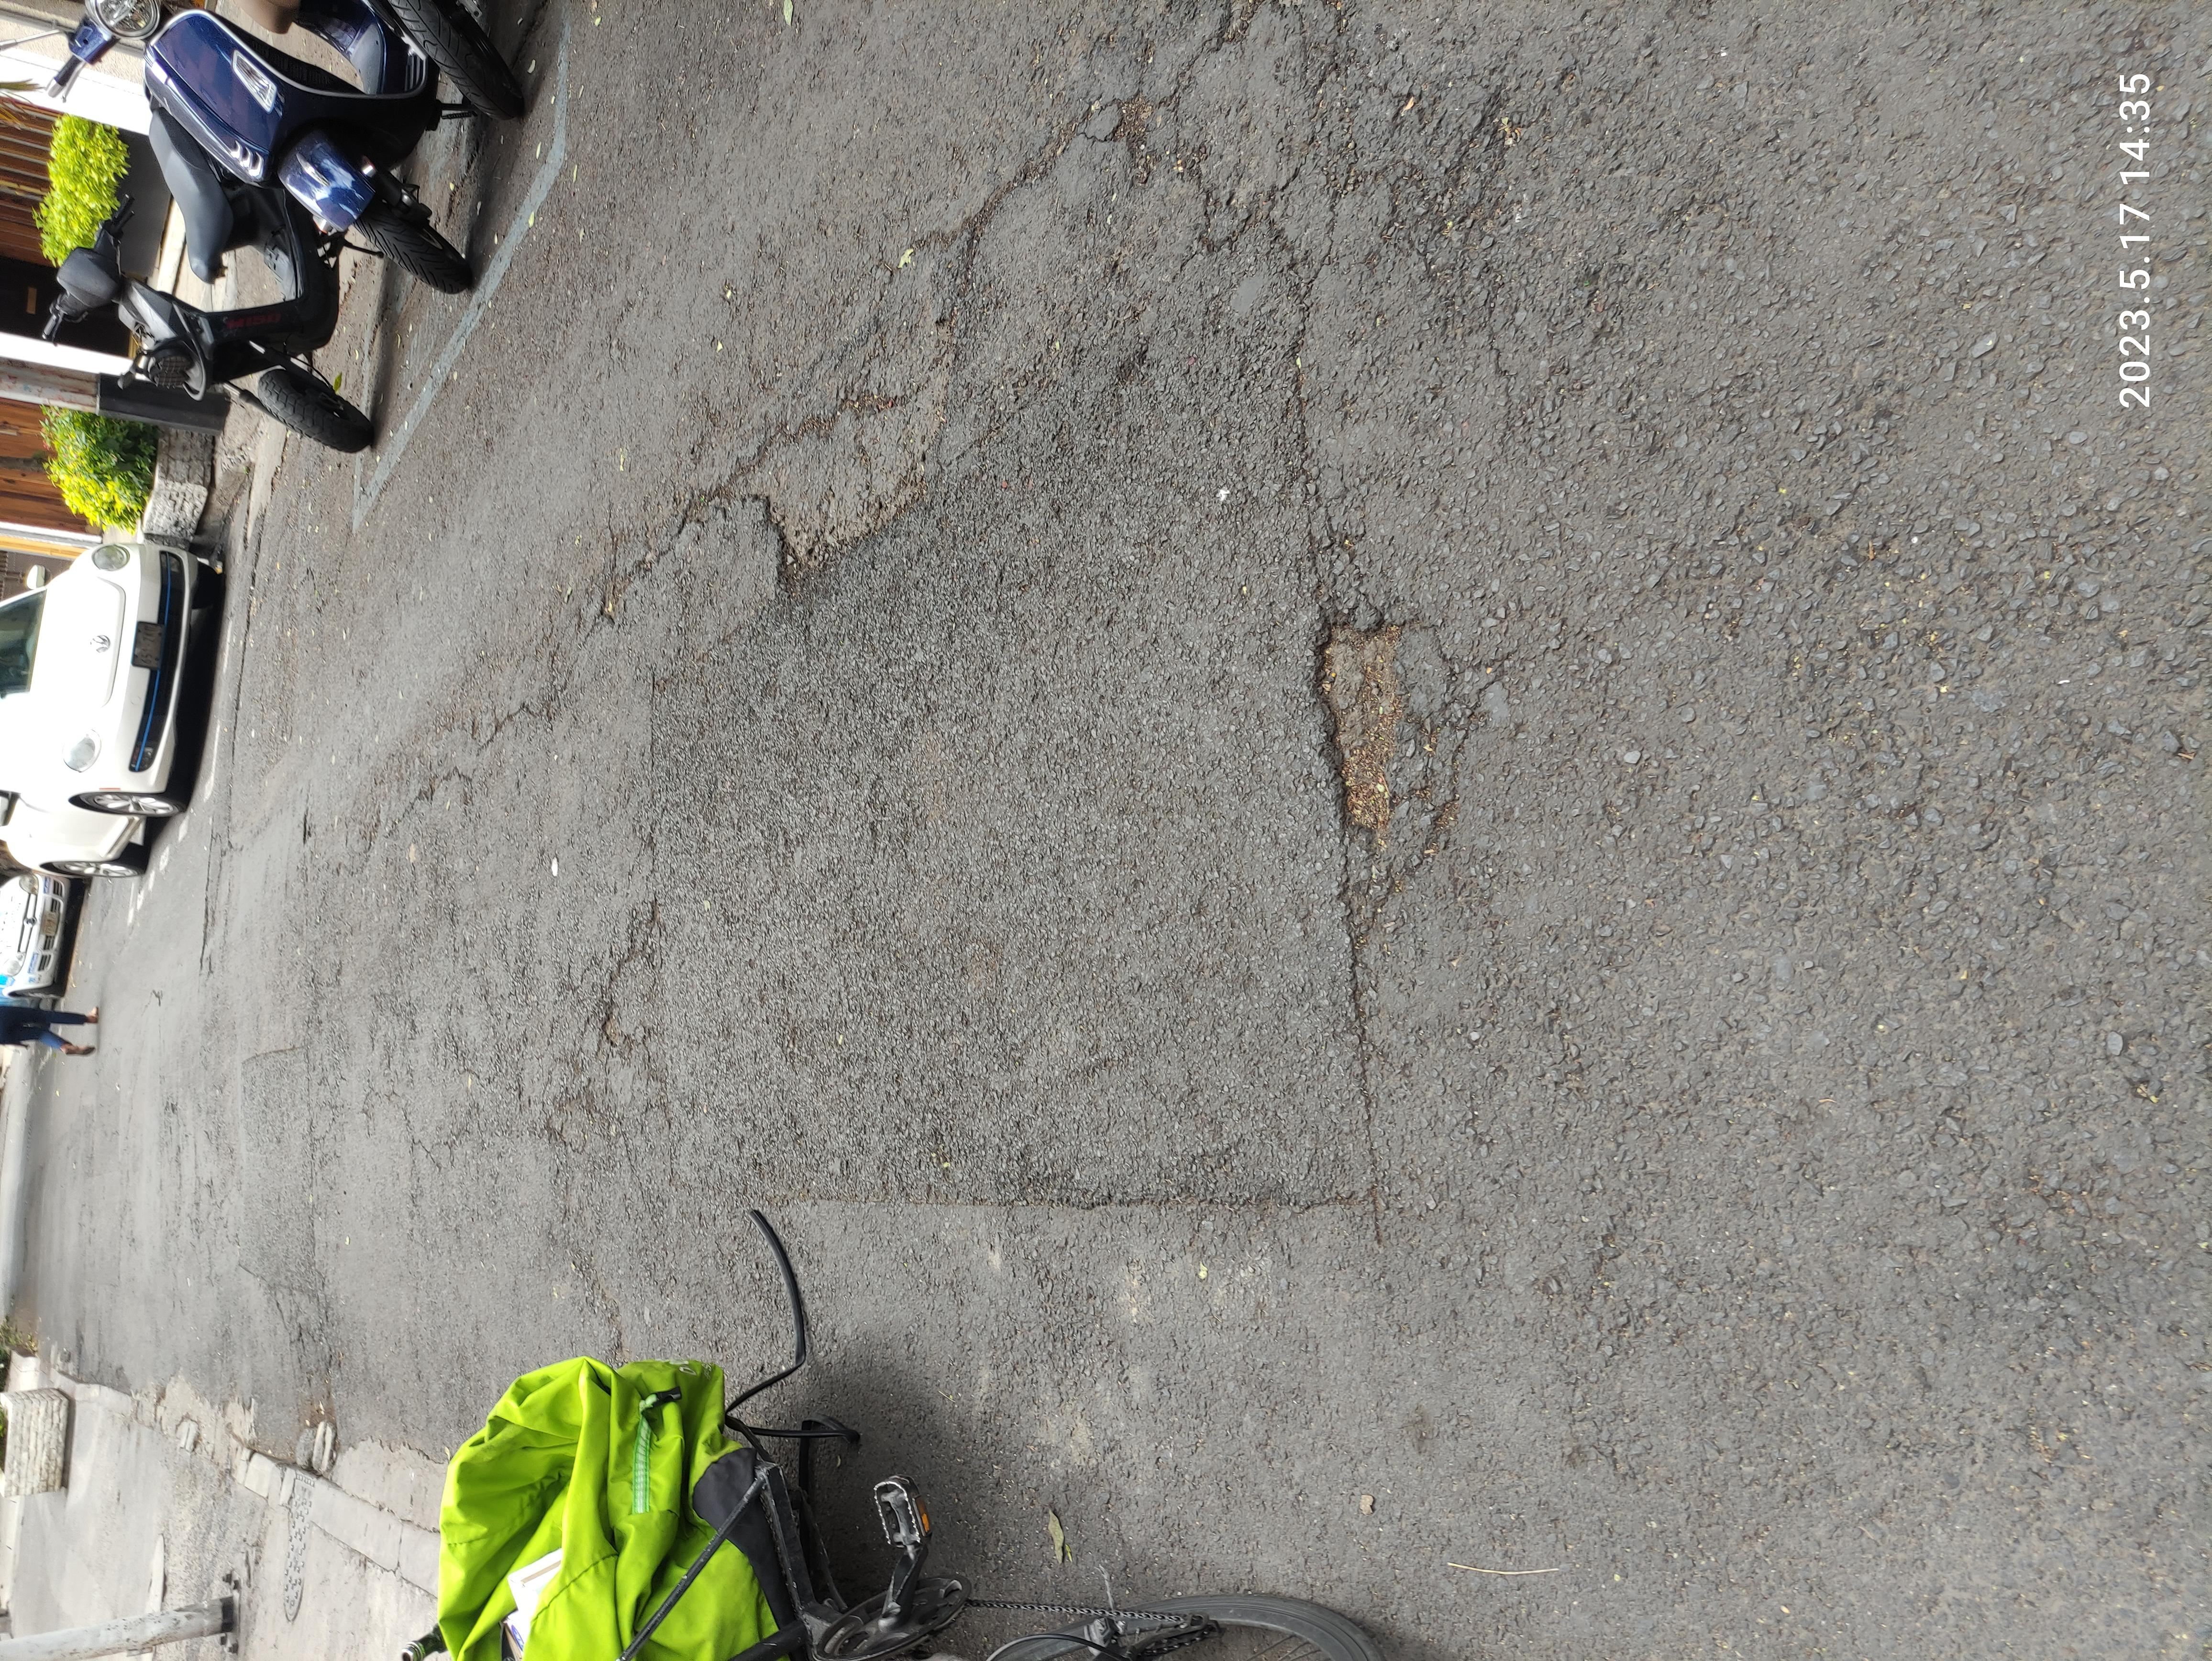crack: (1354, 496, 2212, 1035)
pothole: (1017, 954, 1439, 1094)
